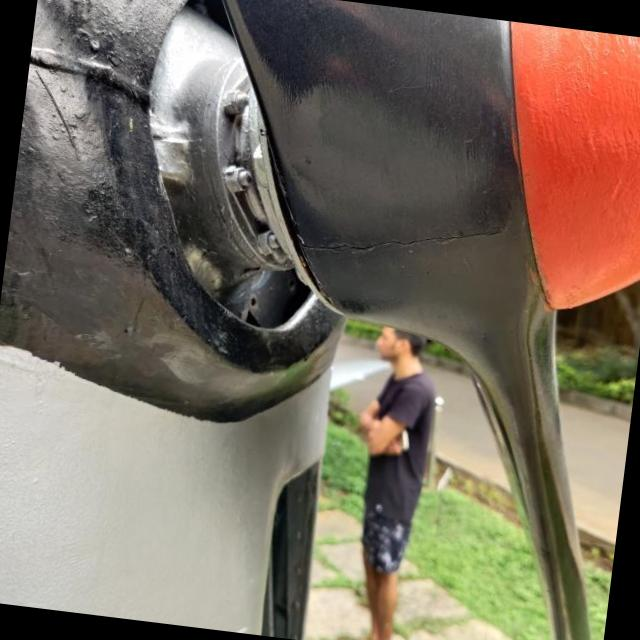Crack: (295, 217, 453, 255)
